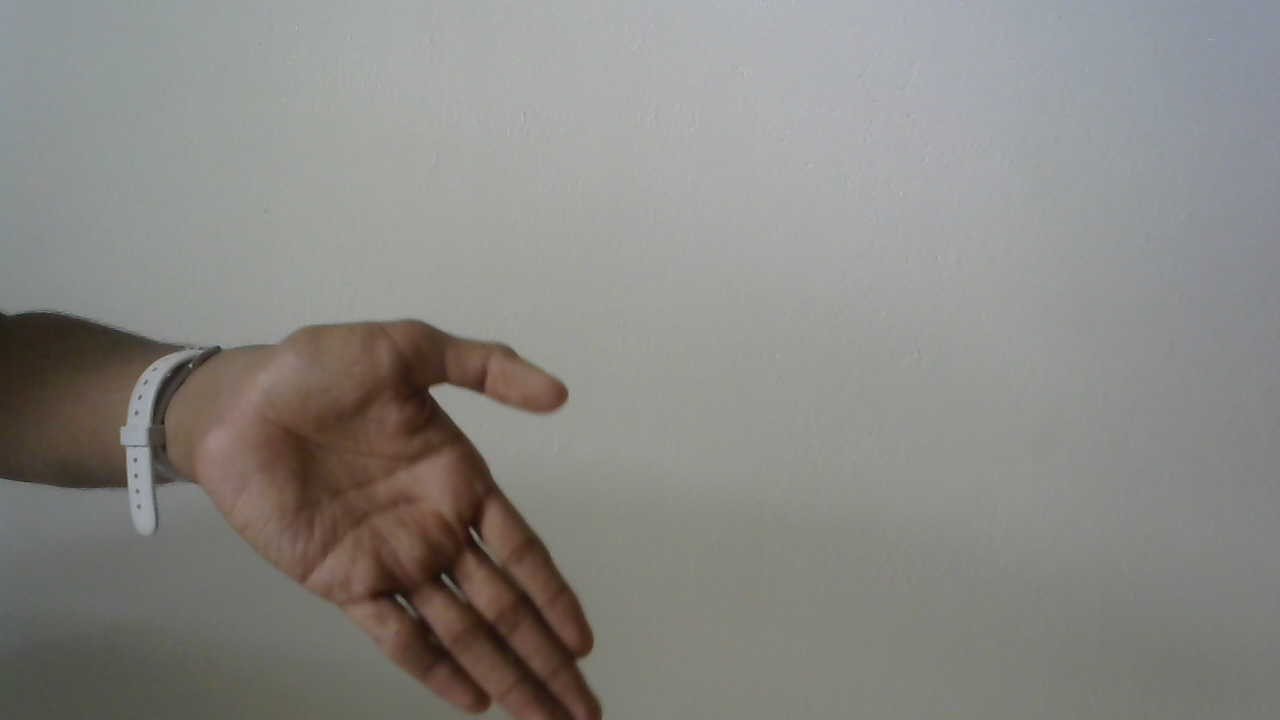hello: (189, 312, 627, 720)
